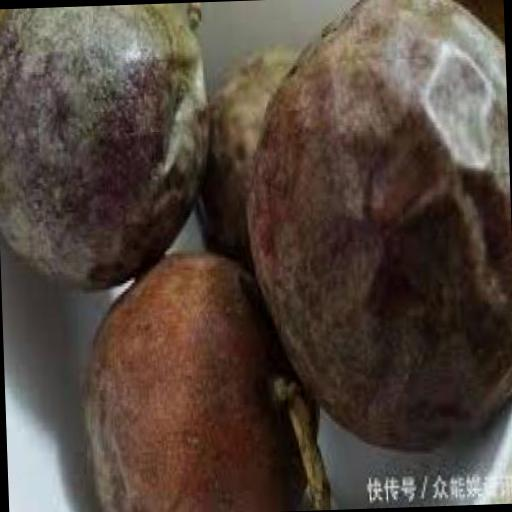biodegradable: (237, 0, 512, 451), (69, 242, 322, 512), (0, 2, 215, 291), (190, 48, 322, 272)
